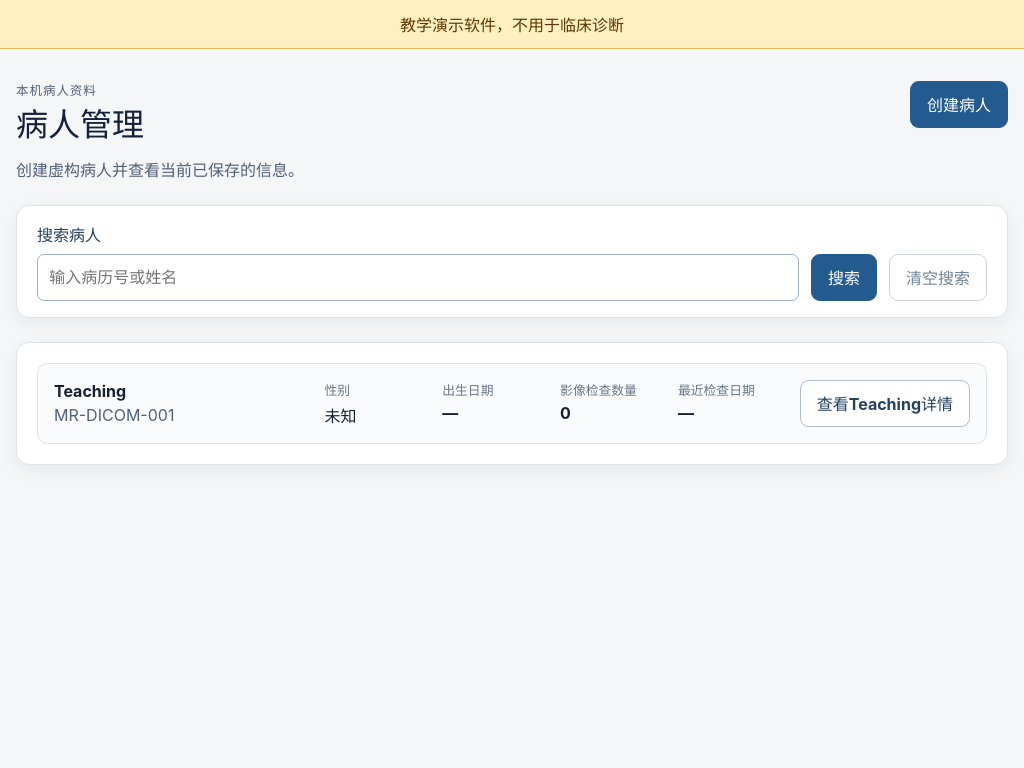
Test case: opens DICOM import only after selecting a patient and keeps disclaimer visible
This screenshot has width=1024, height=768.
Expected: the button "导入 DICOM" is not shown
Click the 4th button at {"x": 885, "y": 403}, box [800, 380, 970, 427]
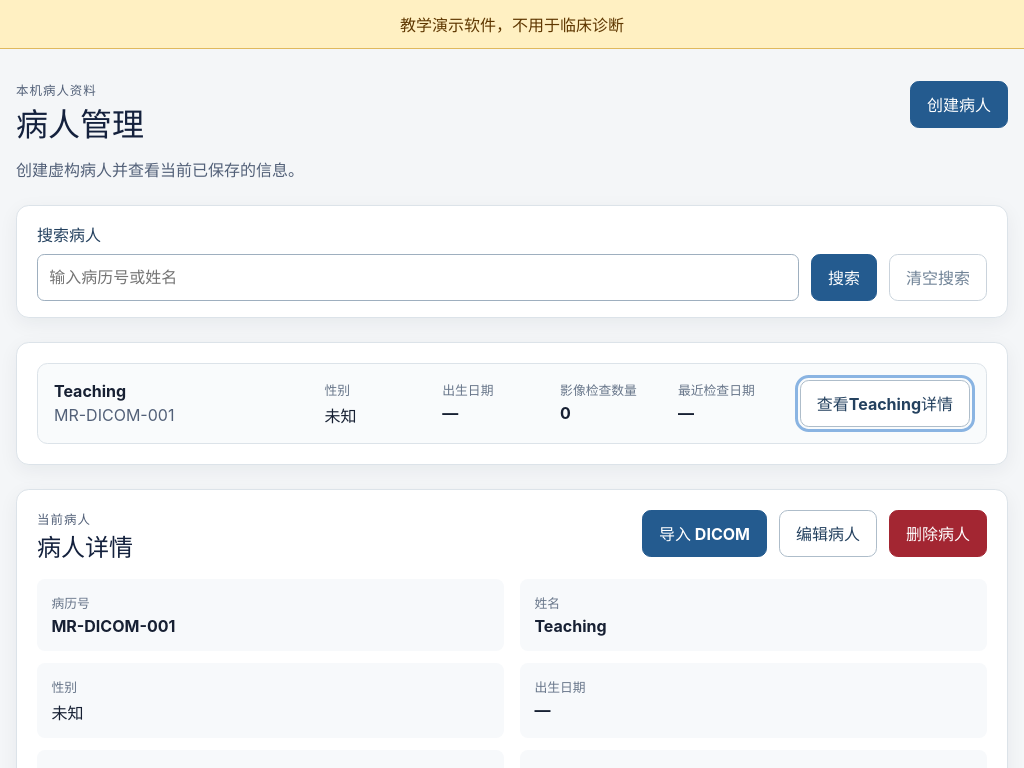
Click the button "导入 DICOM" at {"x": 704, "y": 533}, box [642, 510, 767, 557]
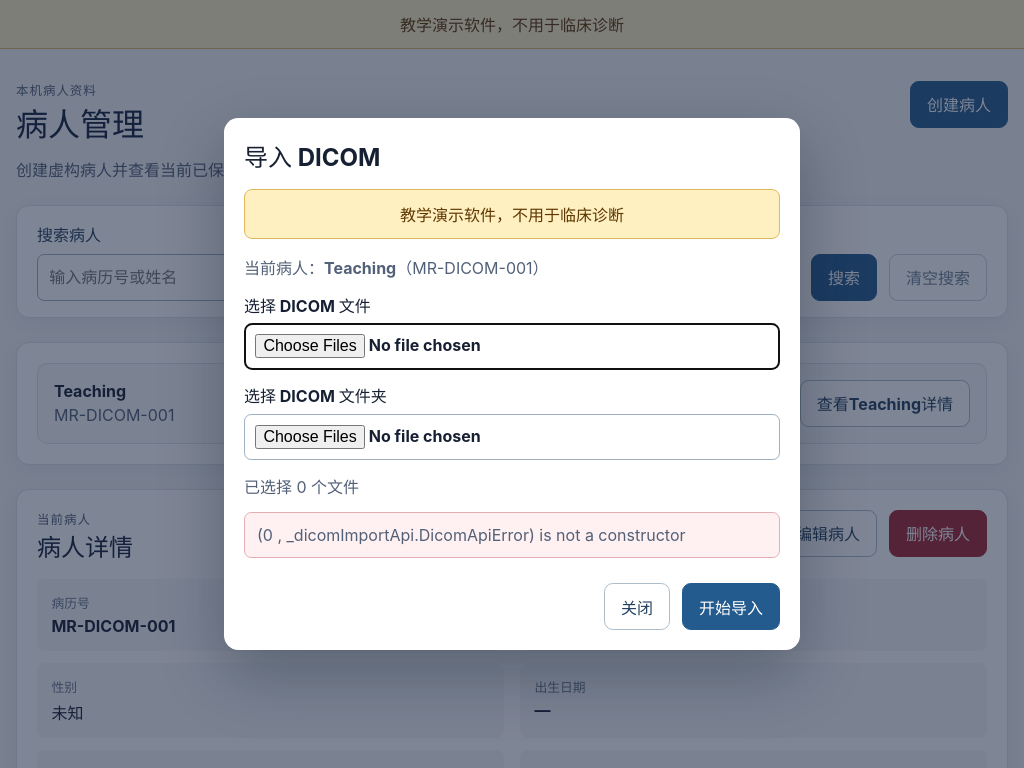
Expected: the dialog "导入 DICOM" is shown, [224, 118, 800, 650]
Expected: the text "教学演示软件，不用于临床诊断" is shown 2 times, [0, 0, 1023, 49]; [244, 189, 780, 239]
